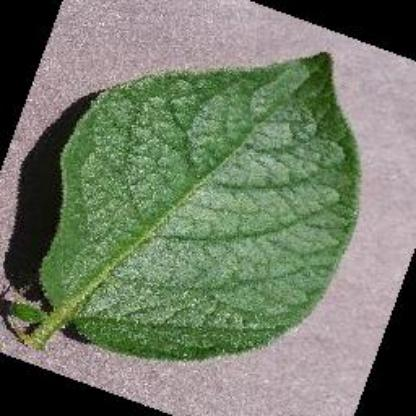Healthy-plant: (9, 51, 366, 363)
